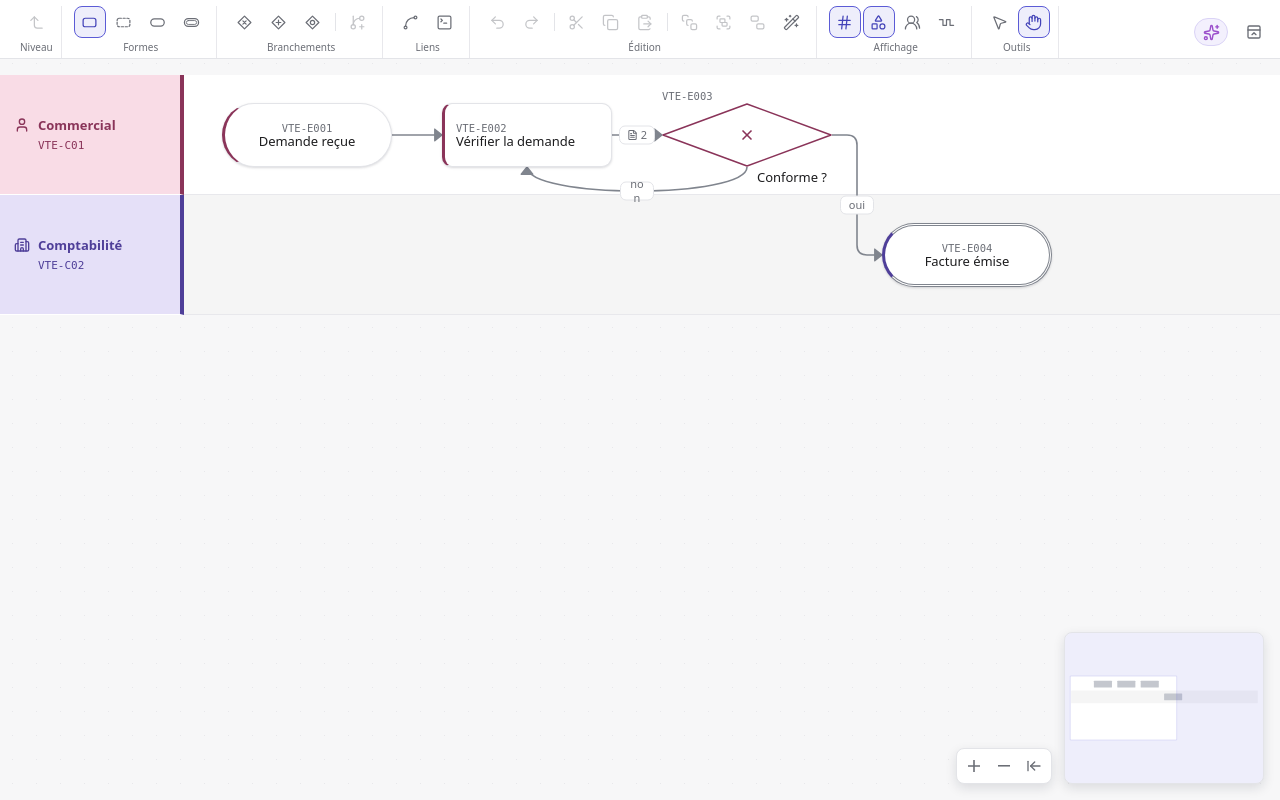
Test case: a proposal on a map with content › offers to refine the proposal in the field
The width and height of the screenshot is (1280, 800).
Click the button with test id "ribbon-assistant" at (1211, 32), box [1194,18,1228,46]
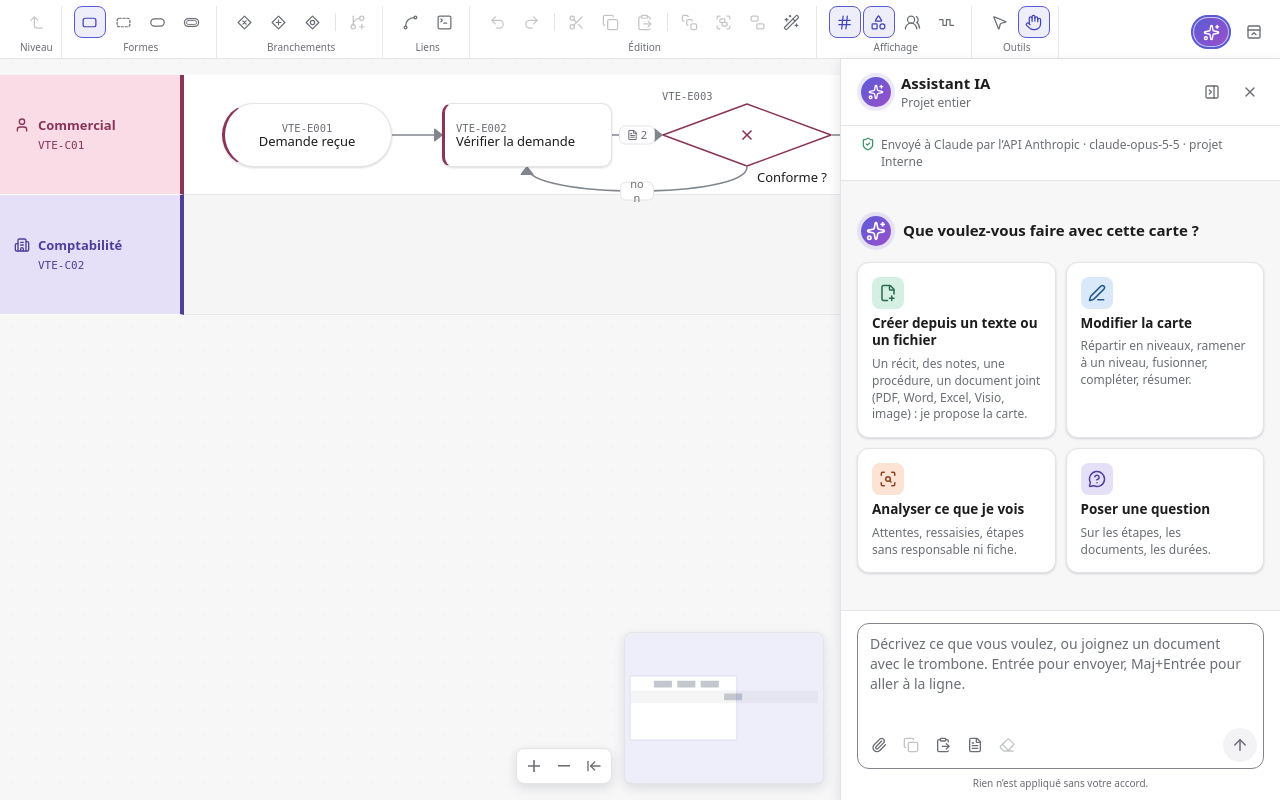
Type "Restructure la carte." into the text box with test id "assistant-field" at (1060, 674), box [858,624,1263,724]
Then press Enter
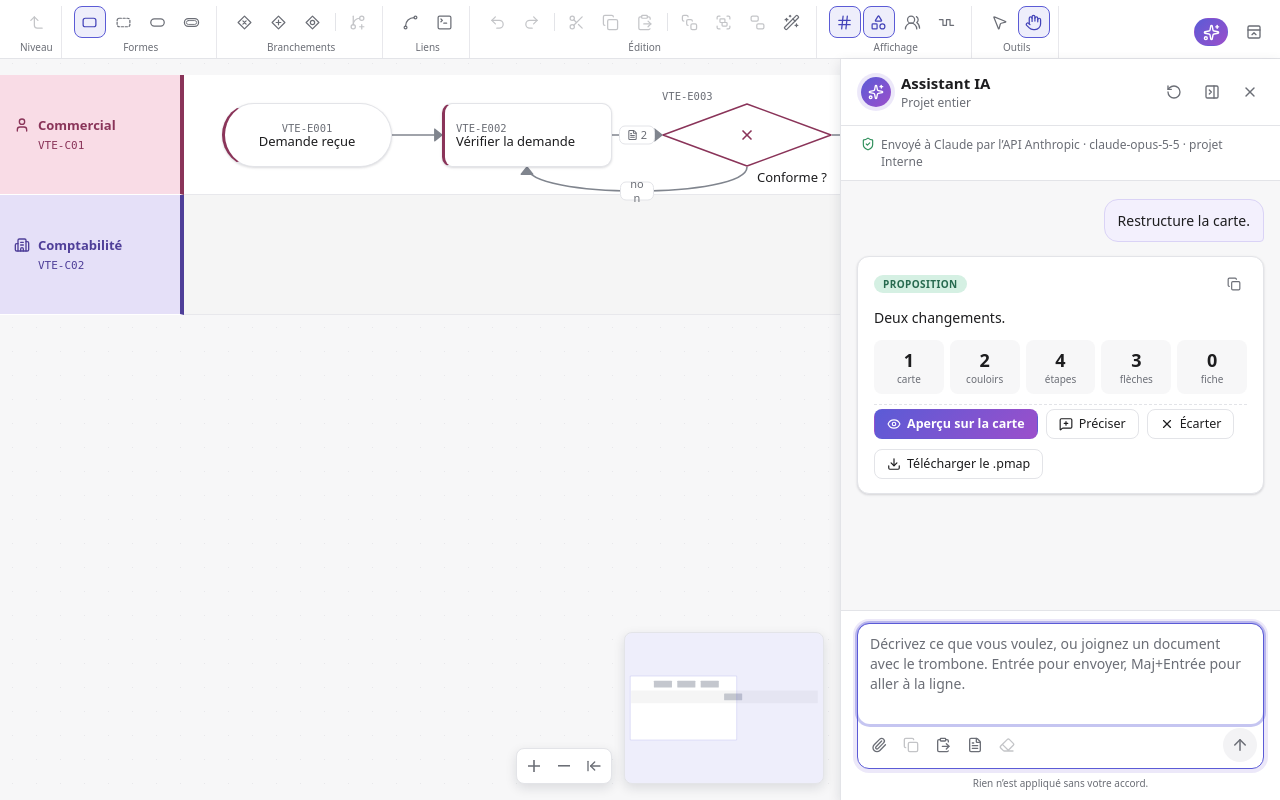
expect the element with test id "assistant-proposal" is shown: met, box [874,340,1247,479]
Click the button with test id "assistant-refine" at (1092, 424), box [1046,409,1139,439]
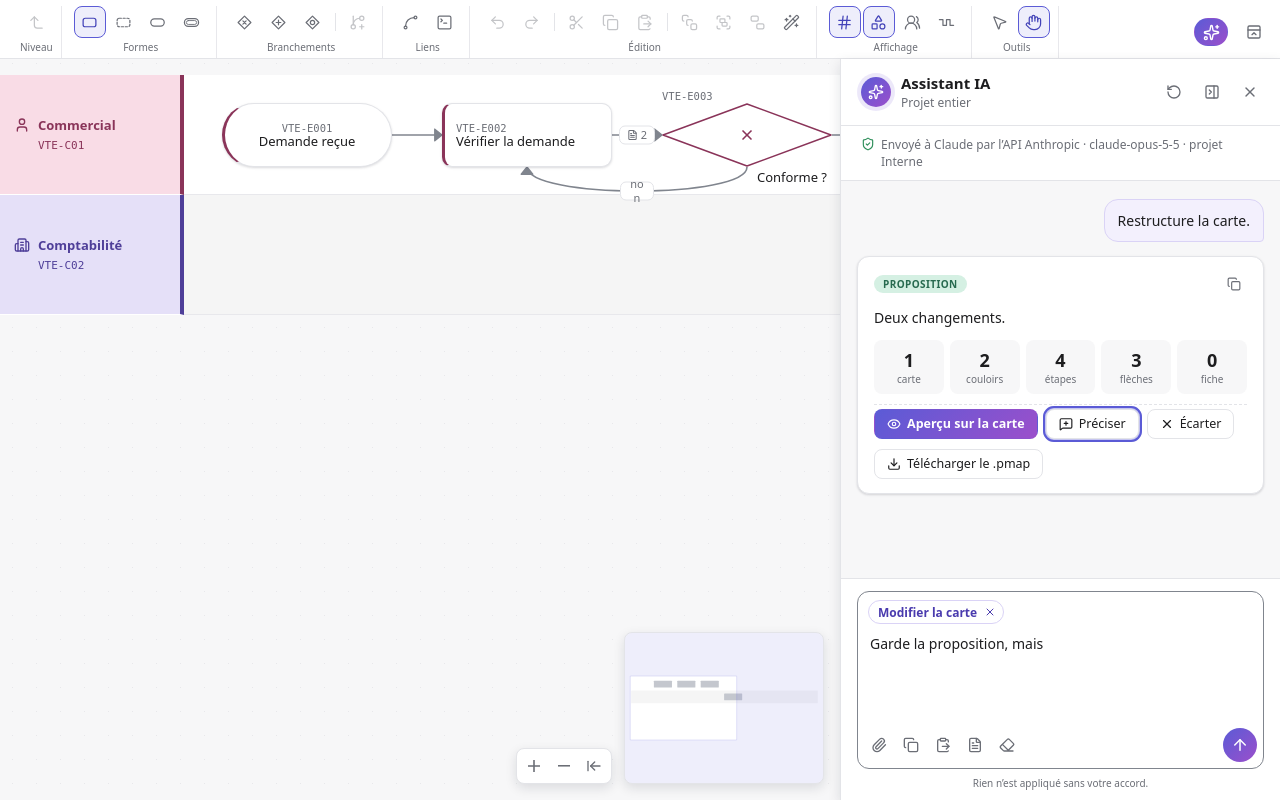
expect the text box with test id "assistant-field" holds "Garde la proposition, mais ": met, box [858,624,1263,724]
expect the element with test id "assistant-intent" reads "Modifier la carte": met, box [878,604,977,620]
